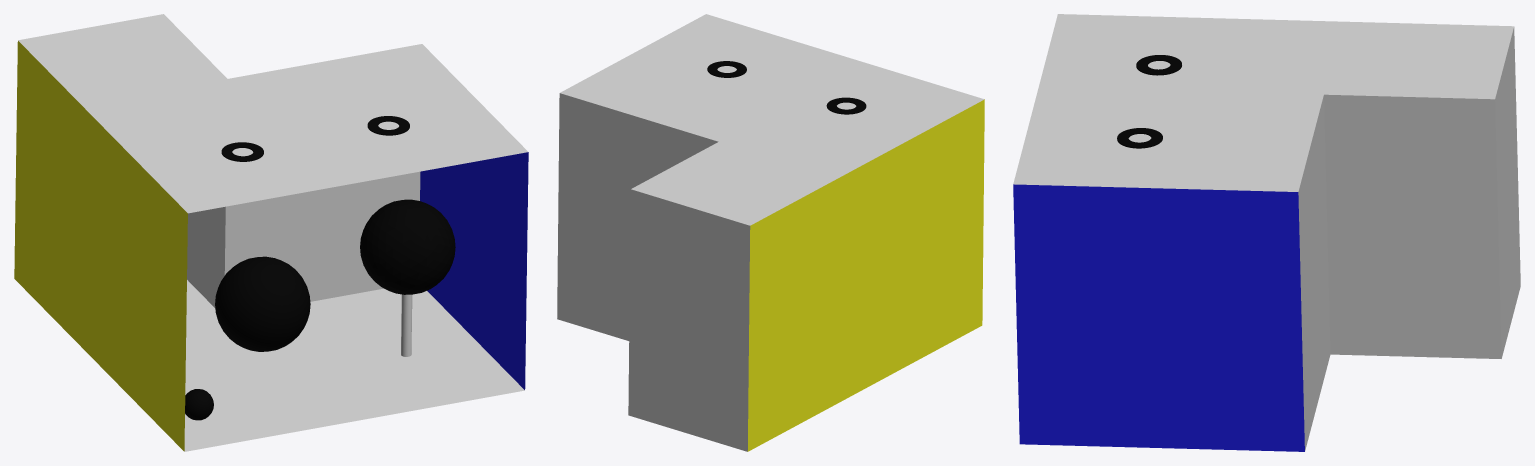
3 renders of one model, left to right at view 1: azimuth 30°, elevation 25°; view 2: azimuth 150°, elevation 25°; view 3: azimuth 270°, elevation 25°, orthographic. The views are drawn at different scales.
Bounding box in the file's own units: 1.7 × 1.23 × 2.
